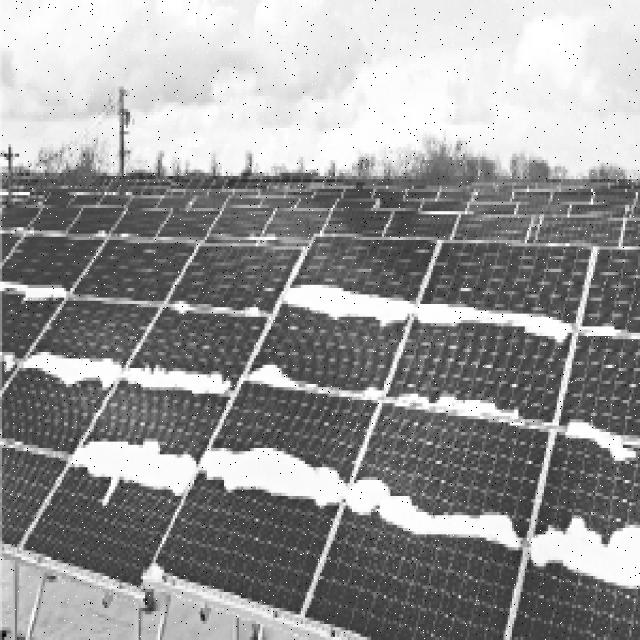snow covered: (181, 243, 632, 615)
